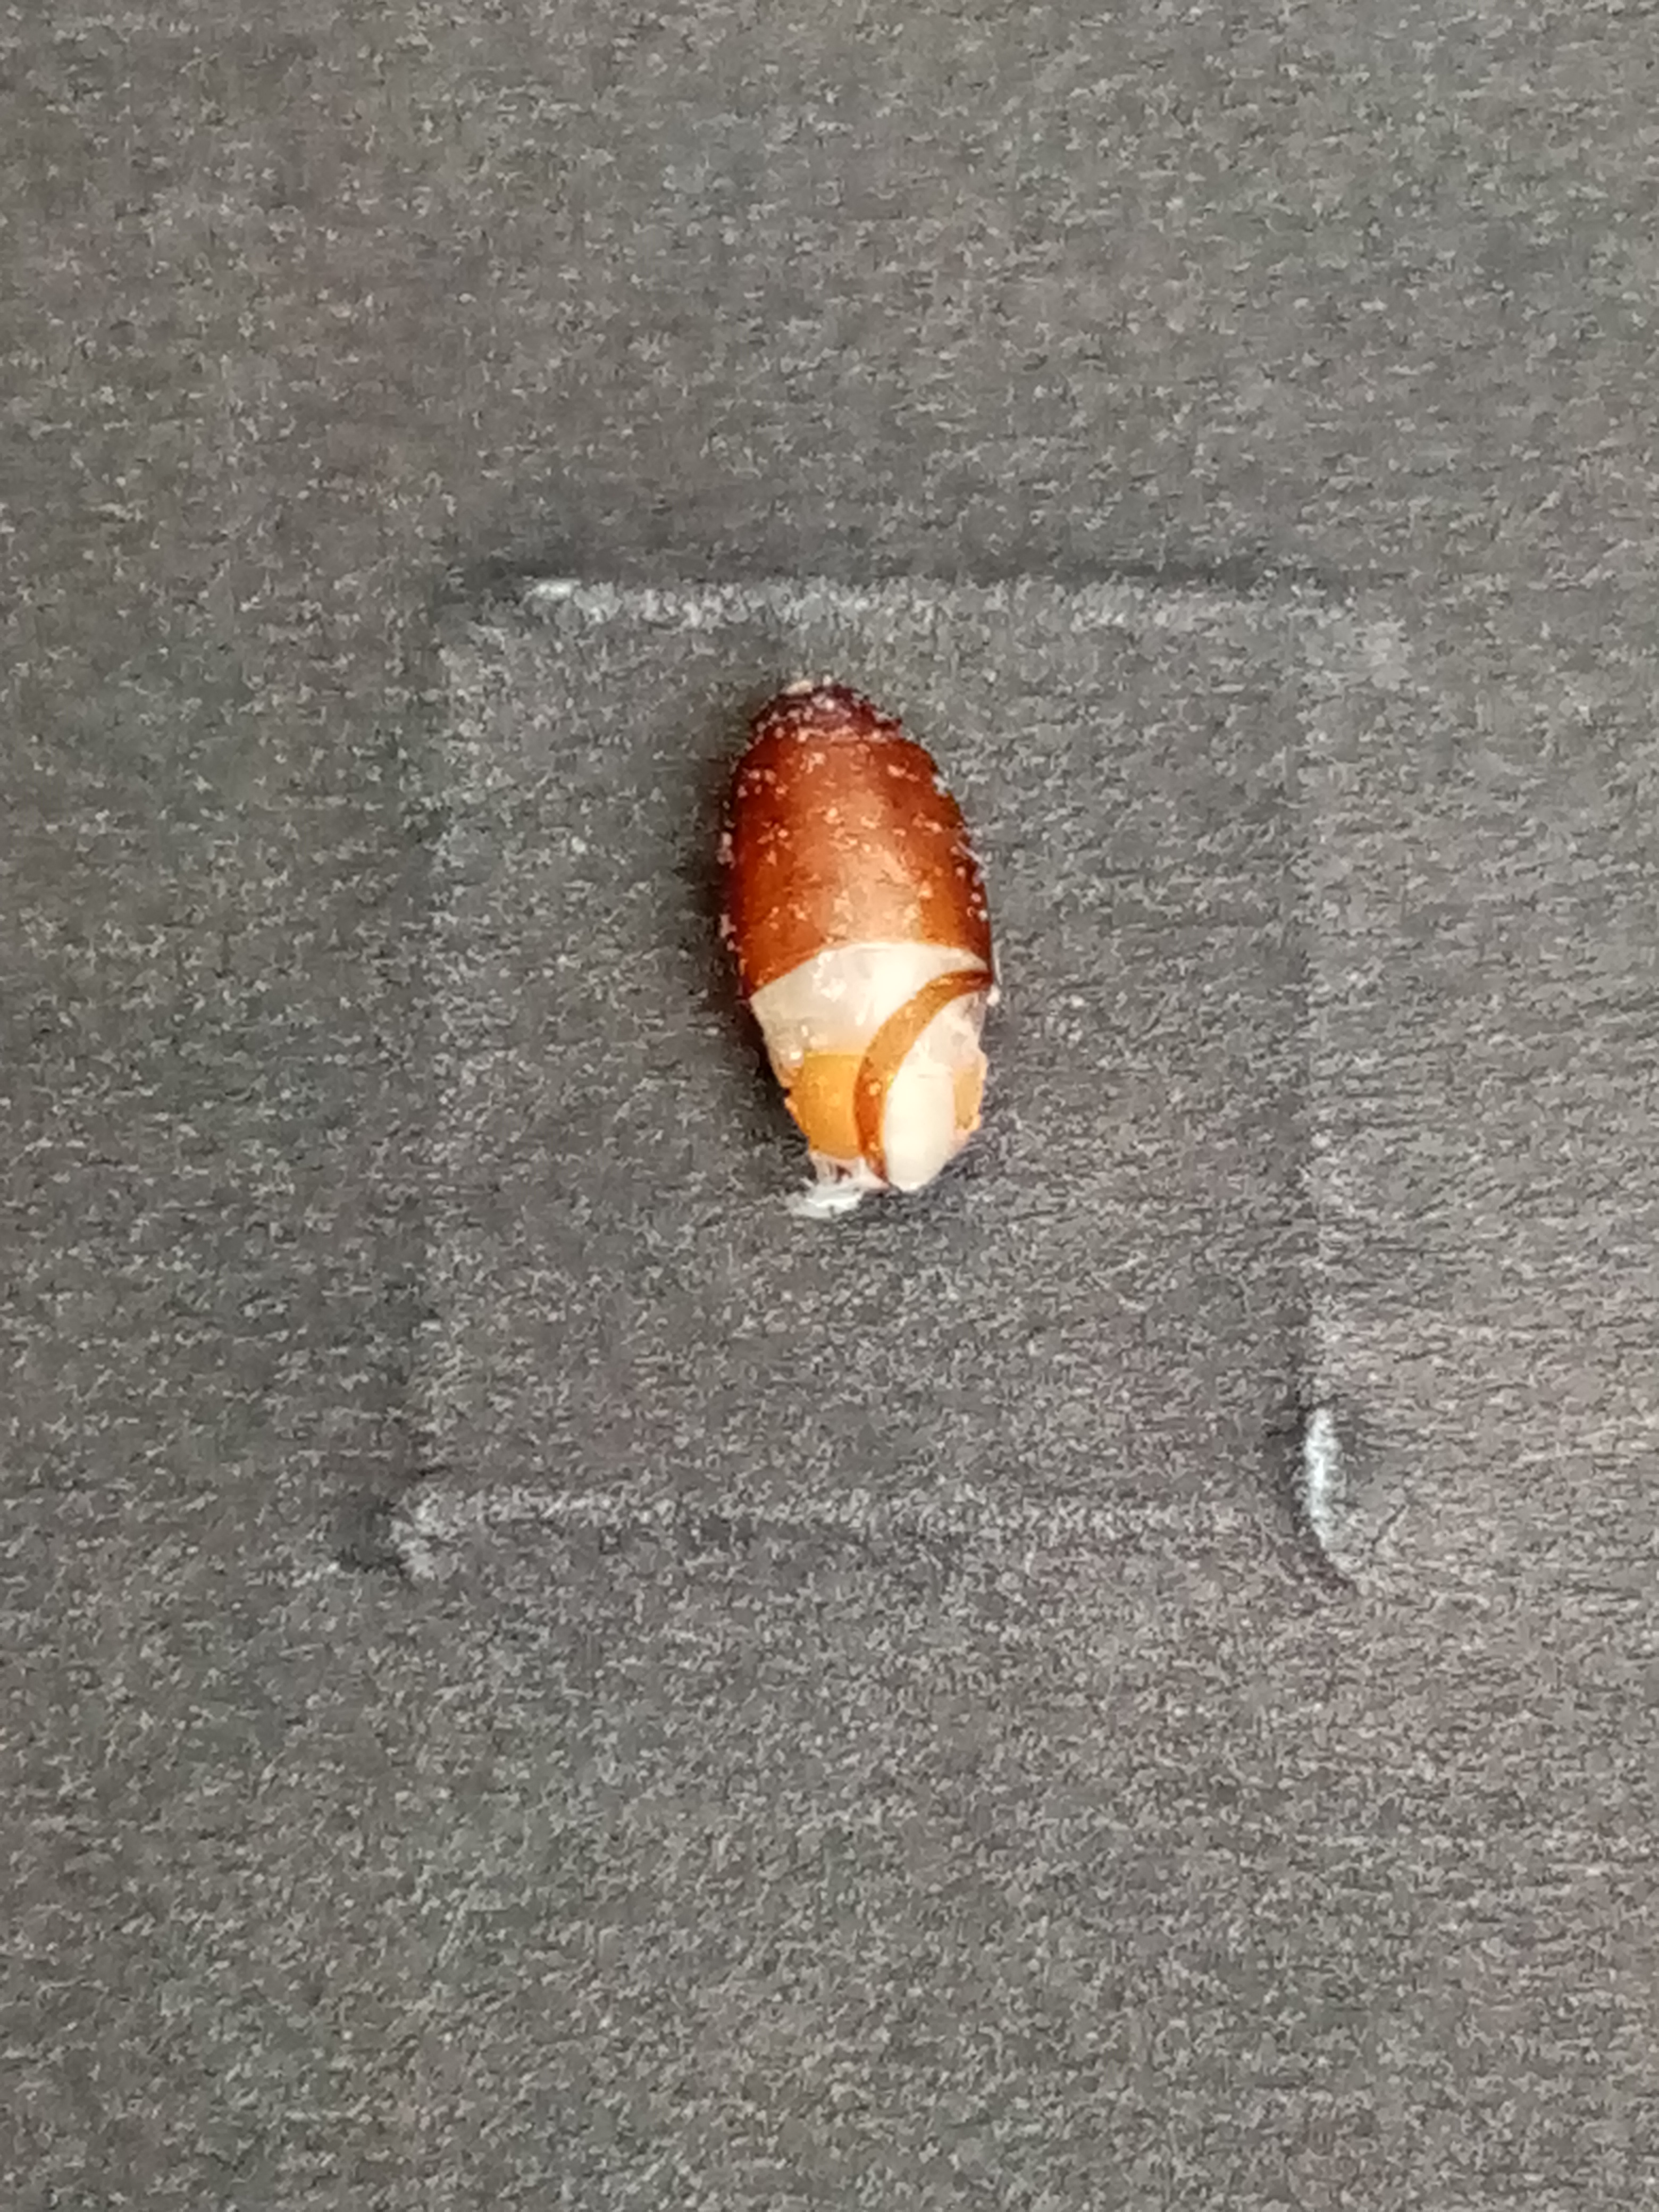pupa: (765, 1024, 997, 1204)
